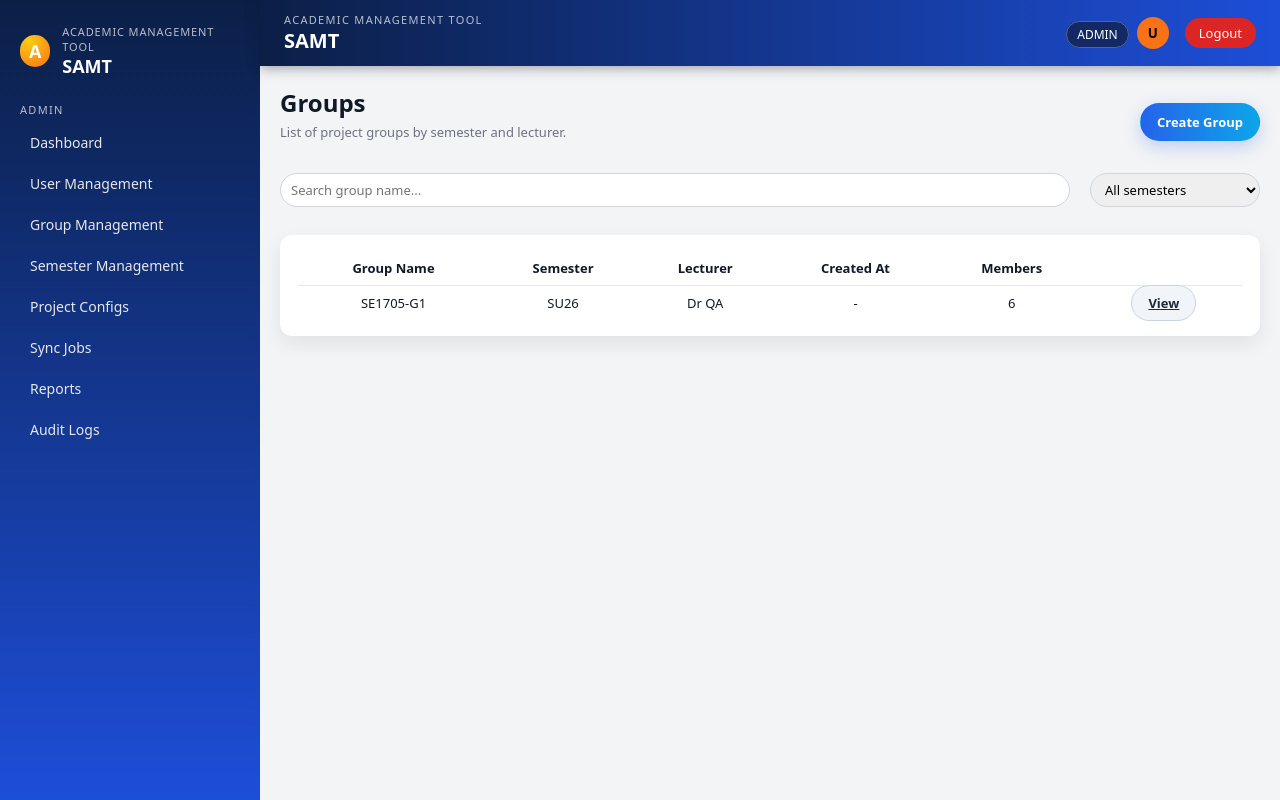
GroupList page › validates create form required fields
Click the button "Create Group" at (1200, 122), box [1140,103,1260,141]
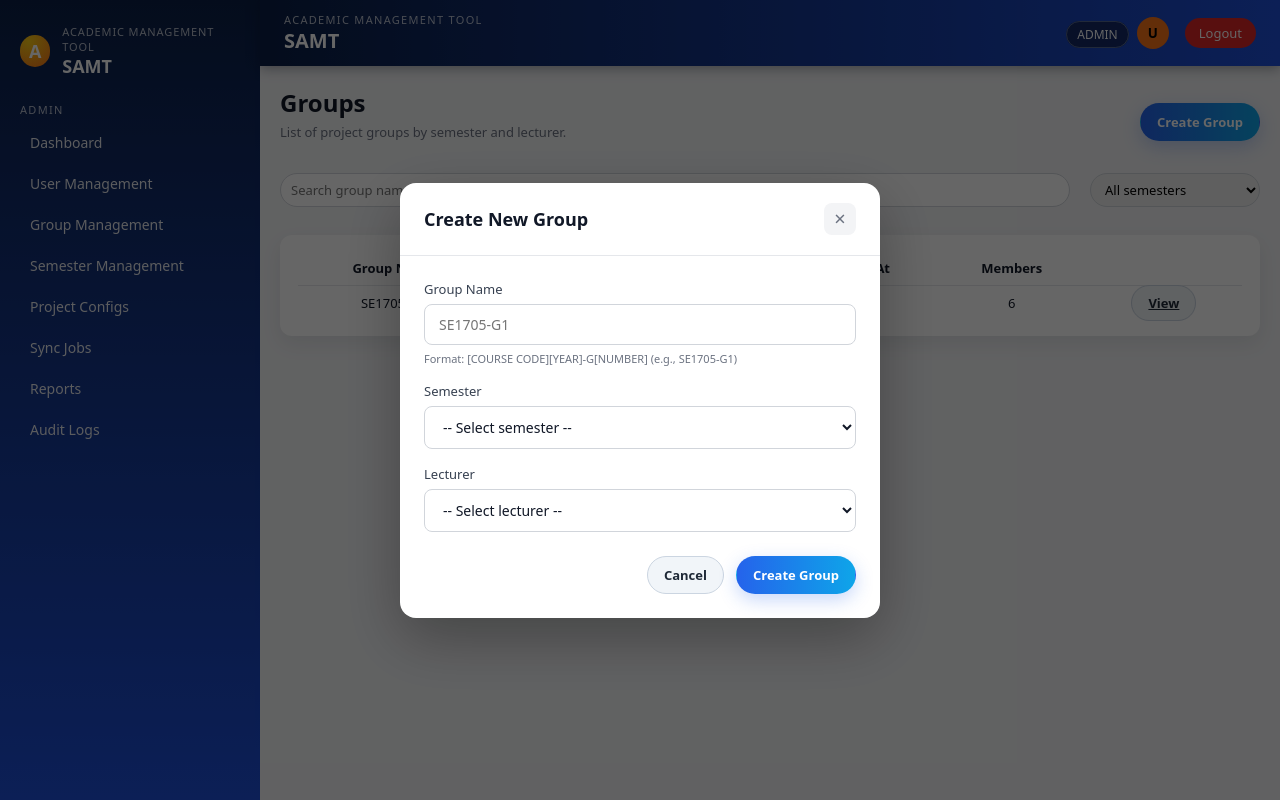
Submit the form with class "modal-form", box [400,256,880,618]
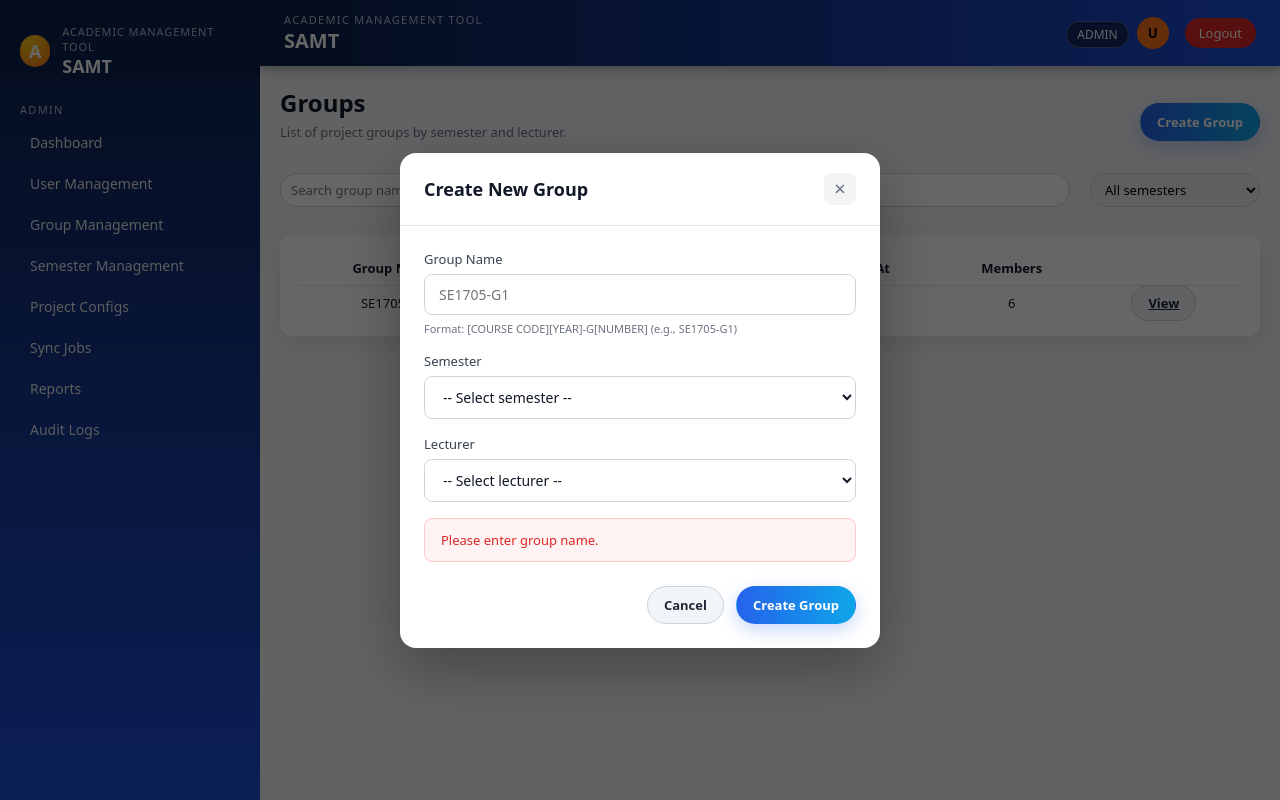
expect the text "Please enter group name." is shown: met, box [424,518,856,562]
